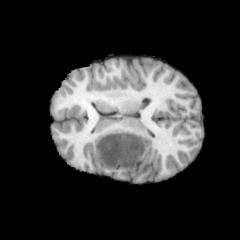glioma: (94, 131, 151, 169)
